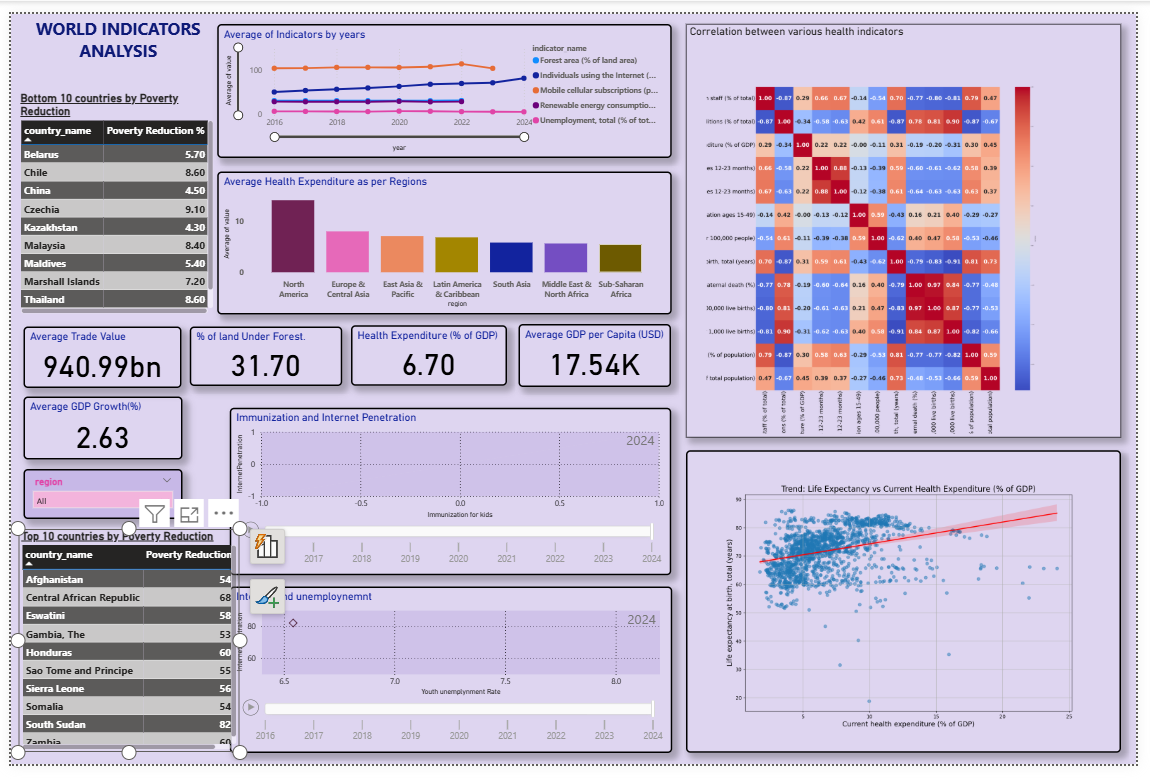

This screenshot's page, from the dashboard's own definition file:
{"tool":"powerbi","page":{"name":"Page 1","canvas":[1800,1200],"ordinal":0},"visuals":[{"type":"card","title":"Average  GDP per Capita (USD)","fields":{"Values":["Avg(economic.value)"]},"box":[255.8,63.1,243.6,96.4],"z":0},{"type":"card","title":"Average Trade Value","fields":{"Values":["Measure Table.Average Trade Value"]},"box":[521.4,62.4,244.2,97],"z":1000},{"type":"card","title":"Health Expenditure (% of GDP)","fields":{"Values":["Avg(health.value)"]},"box":[12.1,60.6,232.1,98.7],"z":2000},{"type":"card","title":"Average  GDP Growth(%)","fields":{"Values":["Avg(economic.value)"]},"box":[256.4,174.9,244.2,97],"z":3000},{"type":"card","title":"% of land Under Forest.","fields":{"Values":["Avg(environment.value)"]},"box":[12.1,174.9,232.1,95.3],"z":4000},{"type":"slicer","fields":{"Values":["poverty.region"]},"box":[512.7,178.4,195.7,93.5],"z":5000},{"type":"lineChart","title":"Average of Indicators by years","fields":{"Category":["Line Chart.year"],"Y":["Avg(Line Chart.value)"],"Series":["Line Chart.indicator_name"]},"box":[12.1,578.5,668.6,284.1],"z":6000},{"type":"pivotTable","title":"Effcect of Internet on unemploynemnt","fields":{"Rows":["Scatter plot.year"],"Values":["Scatter plot.InternetPenetration","Scatter plot.Youth unemplynment Rate"]},"box":[443.4,890.3,438.2,301.4],"z":7000},{"type":"clusteredColumnChart","title":"Average Health Expenditure out of  % of Total GDP as per Regions","fields":{"Category":["health.region"],"Y":["Avg(health.value)"]},"box":[12.1,299.7,668.6,247.7],"z":8000},{"type":"textbox","box":[0,16.2,600.5,58.8],"z":9000},{"type":"pythonVisual","fields":{"Values":["health.country_name","health.value","health.year","health.indicator_name"]},"box":[1035.5,698.6,741.2,482.3],"z":10000},{"type":"pythonVisual","title":"Correlation between various  health indicators","fields":{"Values":["health.year","health.indicator_name","health.value","health.country_name"]},"box":[1035.5,17.7,741.2,659.6],"z":11000},{"type":"tableEx","title":"Top 10 countries by  Poverty Reduction","fields":{"Values":["poverty.country_name","Measure Table.Poverty Reduction %"]},"box":[727.5,562.9,310,315.2],"z":12000},{"type":"tableEx","title":"Bottom 10 countries by Poverty Reduction","fields":{"Values":["poverty.country_name","Measure Table.Poverty Reduction %"]},"box":[725.8,206.1,310,327.4],"z":13000},{"type":"pivotTable","title":"Effect of Internet Penetration on Immunization","fields":{"Rows":["Scatter plot.year"],"Values":["Scatter plot.InternetPenetration","Scatter plot.Immunization for kids"]},"box":[12.1,878.2,388,313.5],"z":14000},{"type":"slicer","fields":{"Values":["economic.country_name"]},"box":[776,60.6,249.4,98.7],"z":14001}]}

Visuals, with their boxes in screenshot pixels (x1, y1, x2, y2), scaled from the page's 1800x1200 canvas onto the 1150x779 screenshot:
"Average  GDP per Capita (USD)" card: locate(163, 41, 319, 104)
"Average Trade Value" card: locate(333, 41, 489, 103)
"Health Expenditure (% of GDP)" card: locate(8, 39, 156, 103)
"Average  GDP Growth(%)" card: locate(164, 114, 320, 177)
"% of land Under Forest." card: locate(8, 114, 156, 175)
slicer - poverty.region: locate(328, 116, 453, 177)
"Average of Indicators by years" lineChart: locate(8, 376, 435, 560)
"Effcect of Internet on unemploynemnt" pivotTable: locate(283, 578, 563, 774)
"Average Health Expenditure out of  % of Total GDP as per Regions" clusteredColumnChart: locate(8, 195, 435, 355)
textbox: locate(0, 11, 384, 49)
pythonVisual - health.country_name x health.value: locate(662, 454, 1135, 767)
"Correlation between various  health indicators" pythonVisual: locate(662, 11, 1135, 440)
"Top 10 countries by  Poverty Reduction" tableEx: locate(465, 365, 663, 570)
"Bottom 10 countries by Poverty Reduction" tableEx: locate(464, 134, 662, 346)
"Effect of Internet Penetration on Immunization" pivotTable: locate(8, 570, 256, 774)
slicer - economic.country_name: locate(496, 39, 655, 103)
